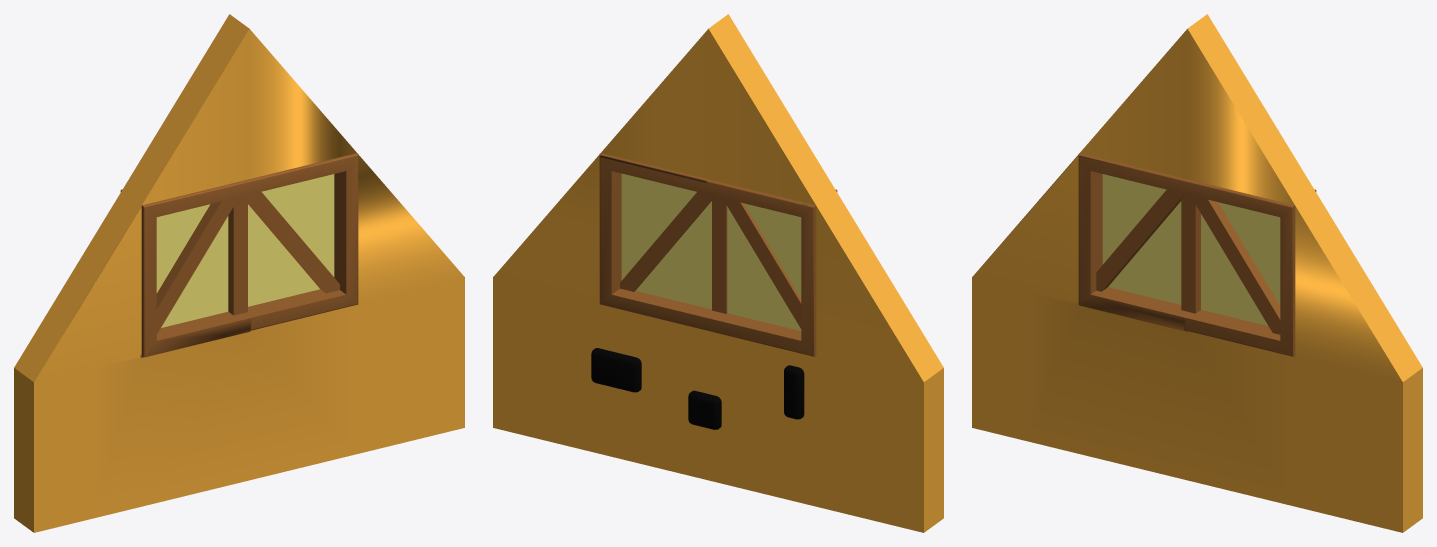
The model's file is Wall Up 7.fbx.
The picture shows the model from 3 angles, left to right: view 1: azimuth 30°, elevation 25°; view 2: azimuth 150°, elevation 25°; view 3: azimuth 330°, elevation 25°; orthographic projection.
Visible parts, largest first — view 1: Wall Up 7; view 2: Wall Up 7; view 3: Wall Up 7.
Boxes of the visible parts, left/top/right/bottom form: Wall Up 7: left=14, top=14, right=464, bottom=532; Wall Up 7: left=493, top=14, right=943, bottom=532; Wall Up 7: left=972, top=14, right=1422, bottom=532.
Size of the model in its own units: 249 by 249 by 26.
1 material, 1 textured.
